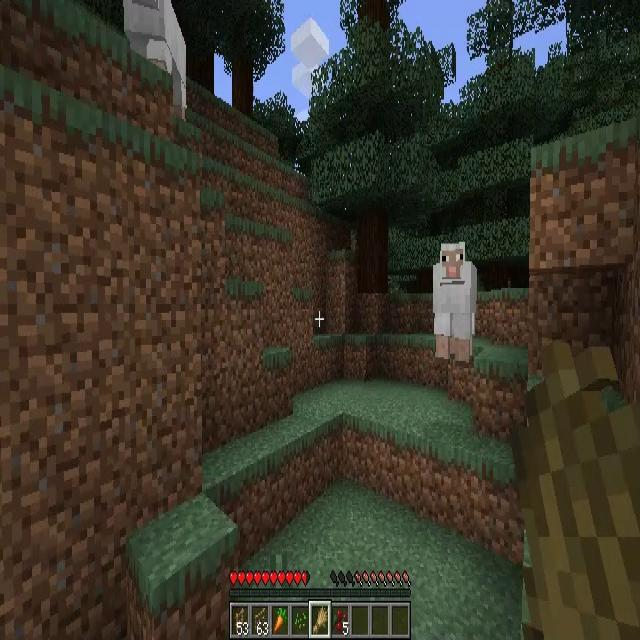sheep: (433, 242, 476, 359)
